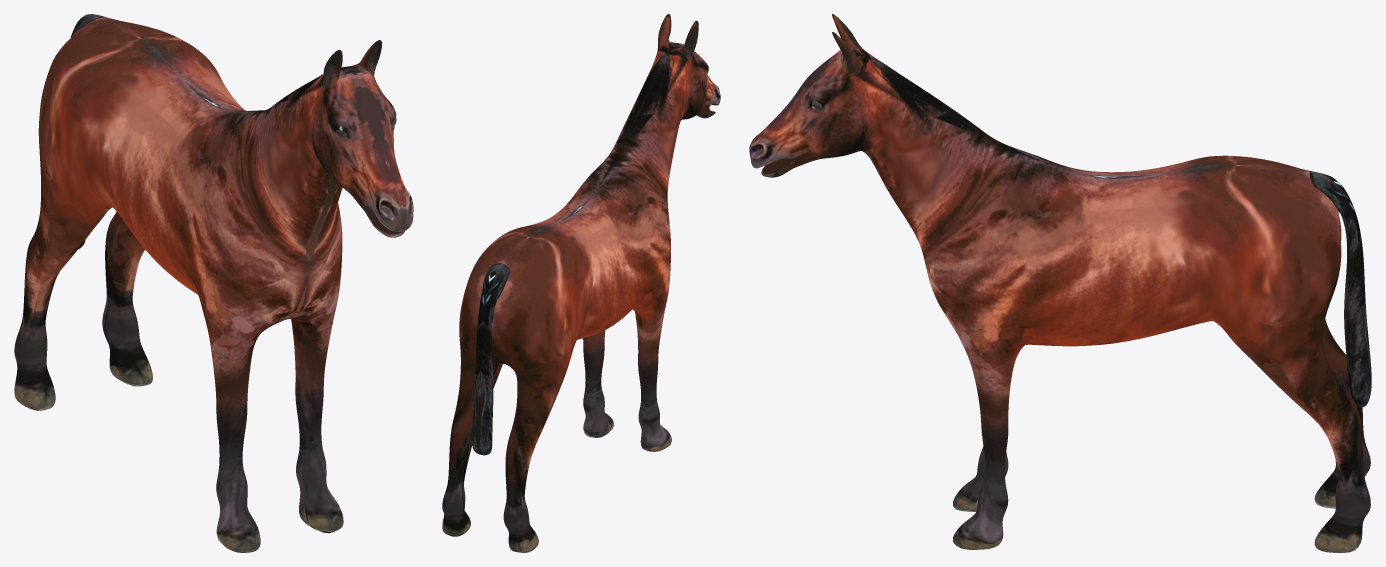
Rendered from horse_3d_model_free.glb.
The picture shows the model from 3 angles, left to right: view 1: azimuth 30°, elevation 25°; view 2: azimuth 150°, elevation 25°; view 3: azimuth 270°, elevation 25°; orthographic projection. The views are drawn at different scales.
Visible parts, largest first — view 1: 10026_Horse_v01-it2; view 2: 10026_Horse_v01-it2; view 3: 10026_Horse_v01-it2.
Part boxes in pixels (x1,y1,x2,y2): 10026_Horse_v01-it2: (14,14,413,552); 10026_Horse_v01-it2: (442,14,720,552); 10026_Horse_v01-it2: (749,14,1371,552).
Size of the model in its own units: 2.07 by 7.75 by 8.68.
1 material, 1 textured.
